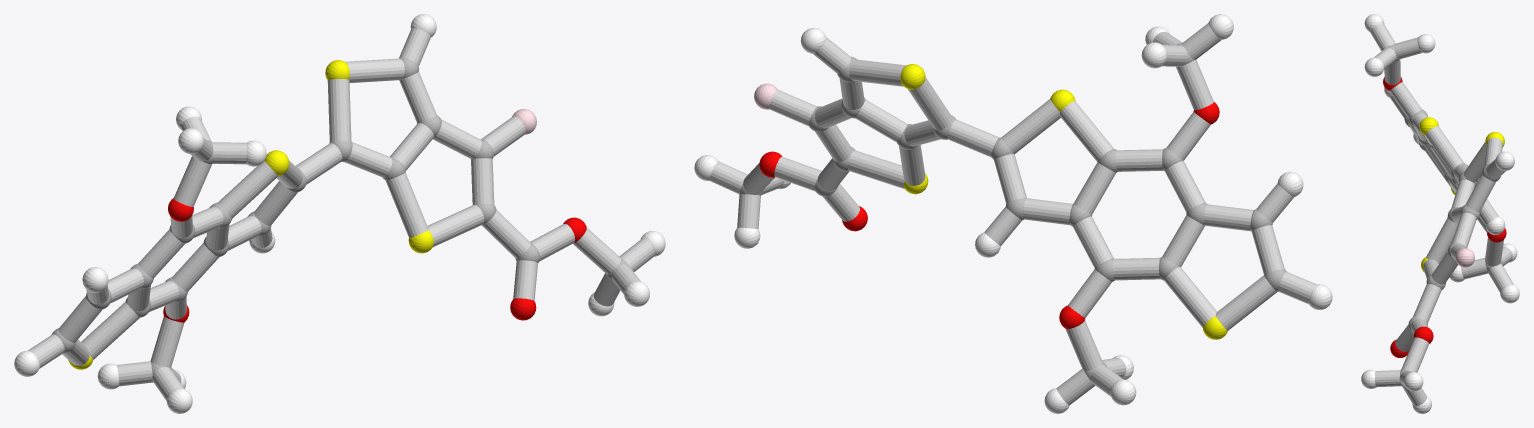
File: Dimethoxy_Benzodithiophene_Phi_0_Theta_120_Methylcarbonyl_3_Fluoro_Thienothiophene.glb
3 renders of one model, left to right at view 1: azimuth 30°, elevation 25°; view 2: azimuth 150°, elevation 25°; view 3: azimuth 270°, elevation 25°, orthographic. The views are drawn at different scales.
Parts seen in each view (by area): view 1: grp15205, grp8689, grp1, grp7241, grp13395; view 2: grp15205, grp8689, grp1, grp7241, grp13395; view 3: grp15205, grp8689, grp1, grp13395, grp7241, grp14843.
Boxes of the visible parts, x1,y1,x2,y2 form: grp15205: [27, 28, 655, 400]; grp8689: [14, 14, 665, 413]; grp1: [51, 57, 629, 382]; grp7241: [68, 60, 433, 369]; grp13395: [163, 198, 586, 322]; grp15205: [709, 23, 1316, 405]; grp8689: [694, 14, 1332, 413]; grp1: [739, 43, 1286, 380]; grp7241: [900, 64, 1227, 339]; grp13395: [759, 102, 1219, 328]; grp15205: [1370, 23, 1513, 405]; grp8689: [1361, 14, 1519, 413]; grp1: [1386, 44, 1502, 387]; grp13395: [1383, 77, 1506, 357]; grp7241: [1419, 117, 1504, 272]; grp14843: [1455, 248, 1474, 267].
Bounding box in the file's own units: 17 × 8.84 × 4.87.
